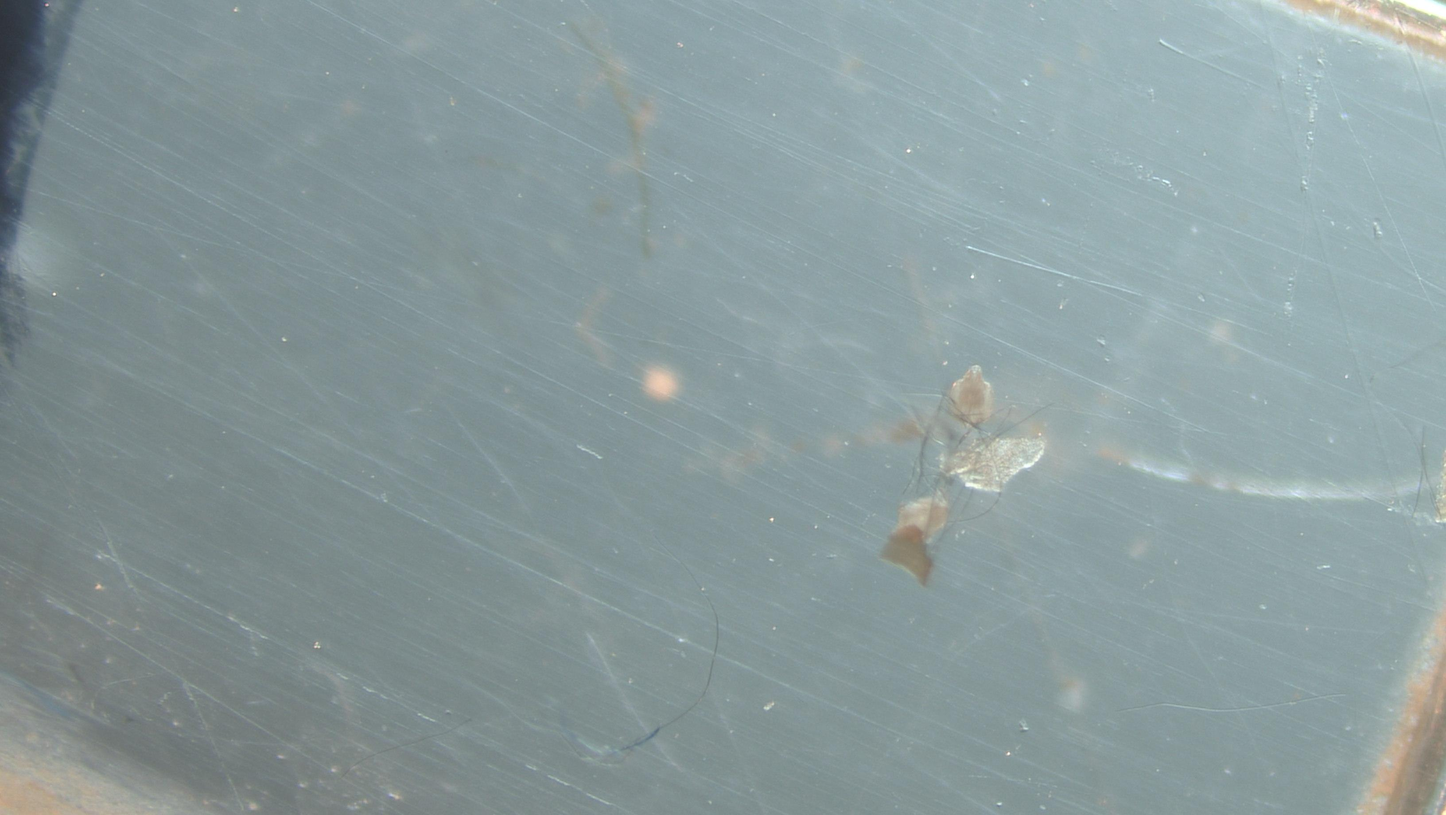live: (948, 365, 993, 425), (898, 493, 950, 543)
